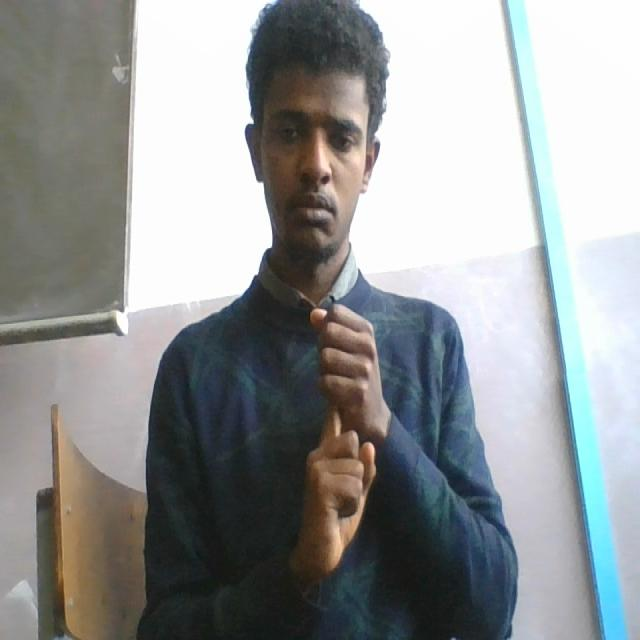meyaz: (298, 288, 392, 575)
